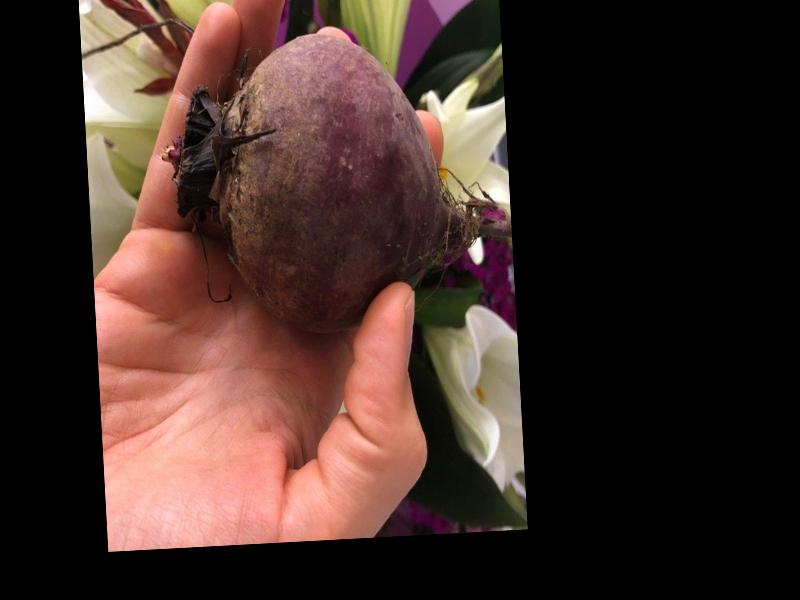Beet: (158, 22, 514, 340)
